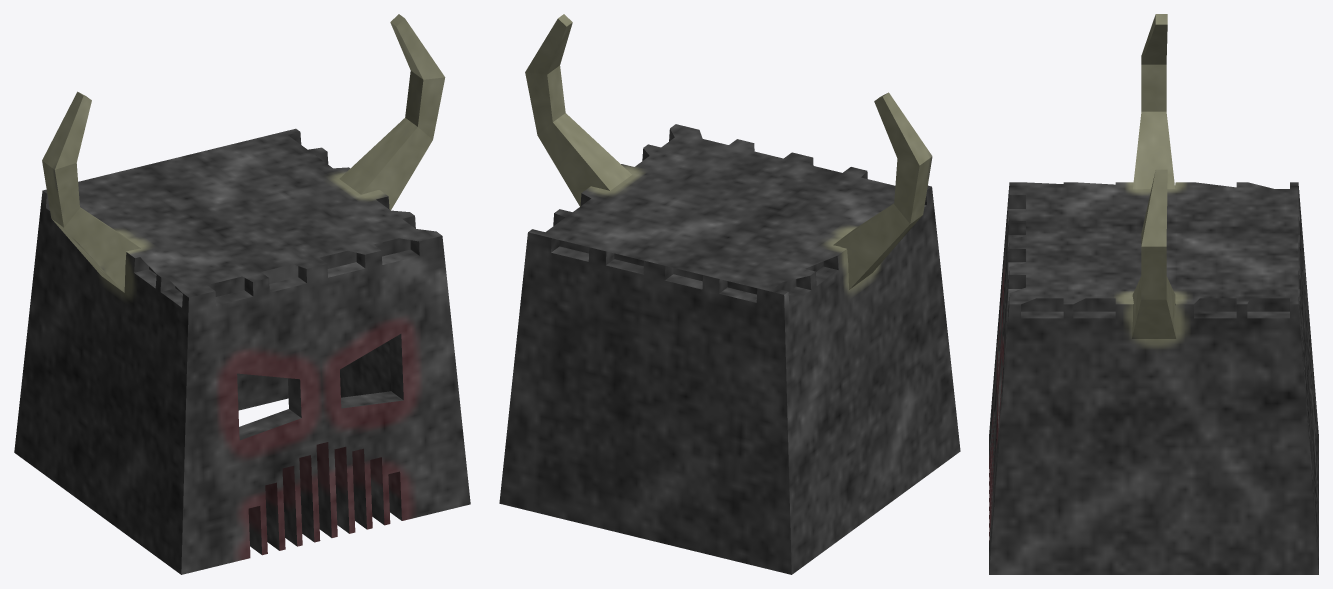
Rendered from item_horned_helmet.fbx.
3 views of the same model, side by side, from view 1: azimuth 30°, elevation 25°; view 2: azimuth 150°, elevation 25°; view 3: azimuth 270°, elevation 25° (orthographic). The views are drawn at different scales.
Visible parts, largest first — view 1: item_horned_helmet; view 2: item_horned_helmet; view 3: item_horned_helmet.
Boxes of the visible parts, bbox=[...] form: item_horned_helmet: bbox=[14, 14, 470, 574]; item_horned_helmet: bbox=[499, 14, 960, 574]; item_horned_helmet: bbox=[989, 14, 1318, 574].
Size of the model in its own units: 669 by 688 by 496.
